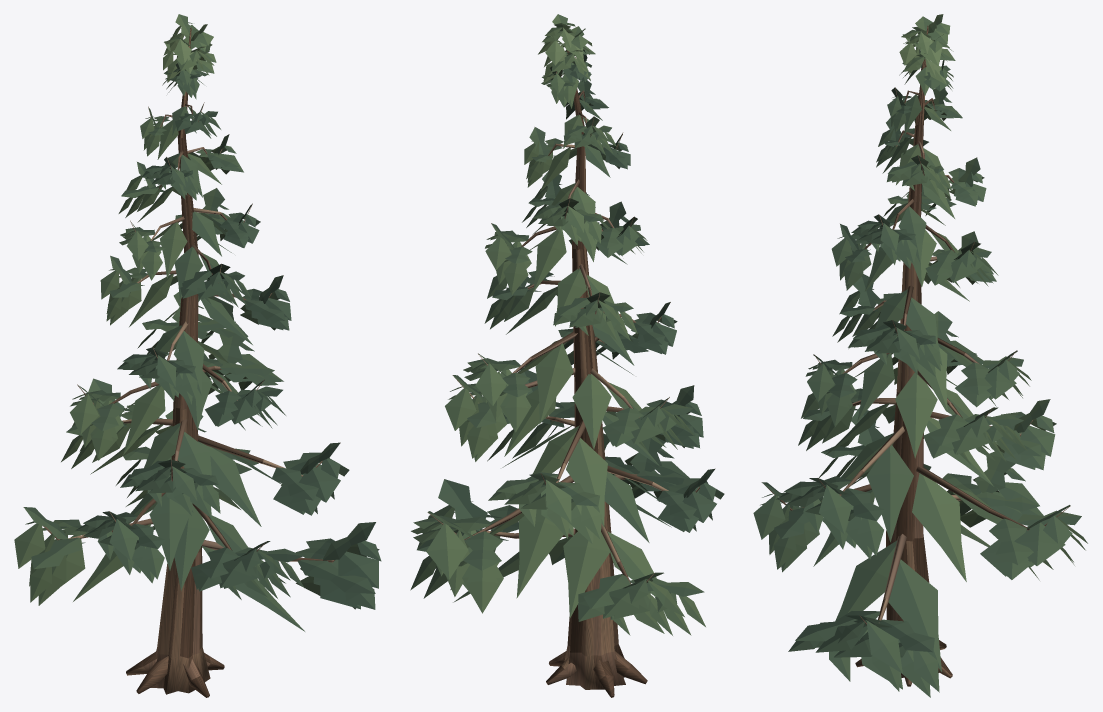
File: ridge-cedar-lod.glb
3 views of the same model, side by side, from view 1: azimuth 30°, elevation 25°; view 2: azimuth 150°, elevation 25°; view 3: azimuth 270°, elevation 25° (orthographic).
Parts seen in each view (by area): view 1: Ridge Cedar Leaf pendant sprays.001, Ridge Cedar Trunk and buttresses.001, Ridge Cedar Branch scaffolds.001; view 2: Ridge Cedar Leaf pendant sprays.001, Ridge Cedar Trunk and buttresses.001, Ridge Cedar Branch scaffolds.001; view 3: Ridge Cedar Leaf pendant sprays.001, Ridge Cedar Trunk and buttresses.001, Ridge Cedar Branch scaffolds.001.
Part boxes in pixels (x1,y1,x2,y2): Ridge Cedar Leaf pendant sprays.001: [14, 14, 381, 631]; Ridge Cedar Trunk and buttresses.001: [126, 27, 224, 697]; Ridge Cedar Branch scaffolds.001: [23, 102, 340, 562]; Ridge Cedar Leaf pendant sprays.001: [410, 14, 724, 635]; Ridge Cedar Trunk and buttresses.001: [546, 50, 647, 697]; Ridge Cedar Branch scaffolds.001: [427, 49, 715, 584]; Ridge Cedar Leaf pendant sprays.001: [753, 14, 1087, 697]; Ridge Cedar Trunk and buttresses.001: [855, 25, 952, 686]; Ridge Cedar Branch scaffolds.001: [761, 63, 1070, 624].
Size of the model in its own units: 4.46 by 8.92 by 4.1.
3 materials, 1 textured.
